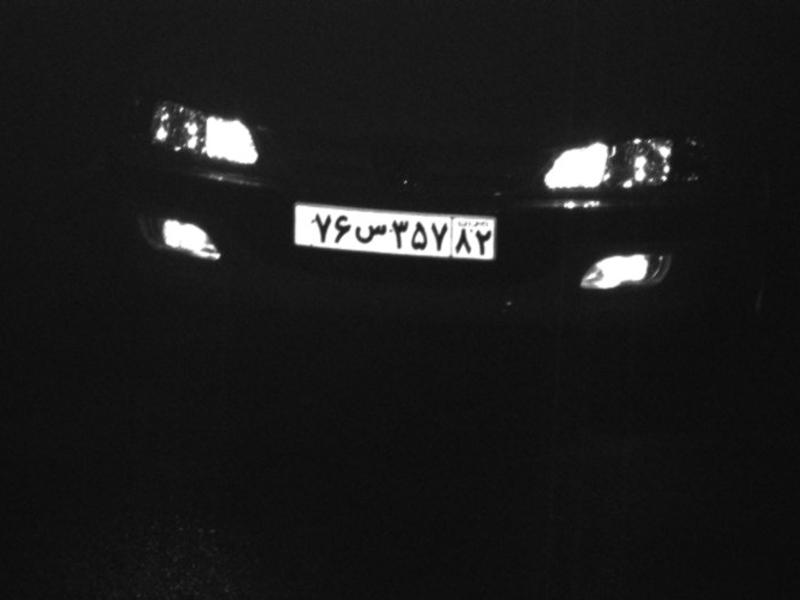Plate: (299, 201, 496, 269)
